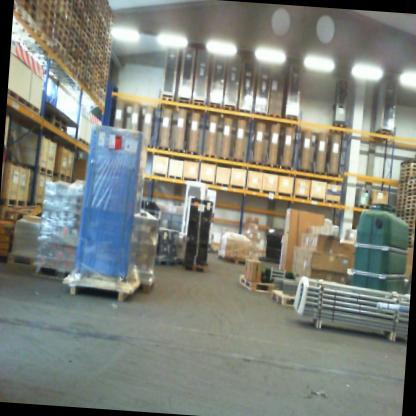pallet: (29, 258, 79, 290), (7, 251, 53, 285), (238, 273, 273, 298), (37, 117, 74, 138), (15, 160, 55, 179), (16, 0, 40, 23), (270, 288, 295, 310), (0, 196, 28, 211), (17, 0, 39, 16), (183, 261, 208, 275), (221, 254, 247, 267), (139, 275, 156, 293), (155, 256, 178, 268), (54, 169, 73, 183), (206, 101, 222, 115), (18, 0, 39, 9), (176, 96, 192, 106), (264, 161, 280, 171), (191, 99, 207, 108), (249, 159, 265, 168), (169, 147, 186, 155), (223, 104, 238, 113), (237, 107, 253, 115), (379, 129, 395, 137), (312, 169, 328, 177), (159, 95, 175, 102), (254, 109, 268, 117), (331, 122, 347, 129), (156, 144, 170, 152), (185, 149, 199, 157), (202, 153, 218, 160), (232, 158, 248, 165), (280, 164, 294, 172), (298, 166, 312, 174), (266, 112, 281, 119), (284, 115, 299, 122), (217, 155, 231, 162), (326, 172, 340, 179)
